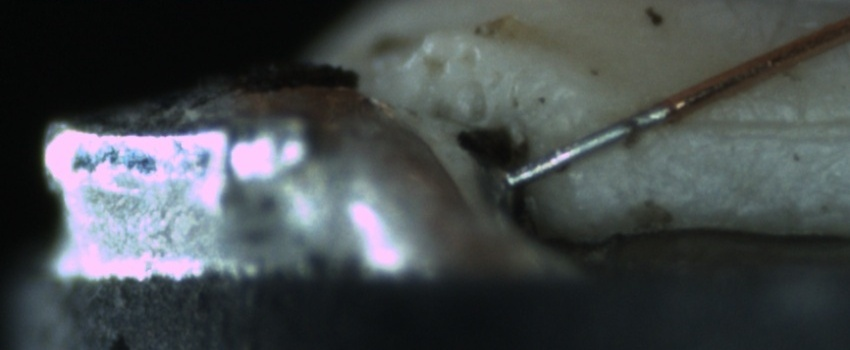DL: (670, 92, 849, 160)
TS: (498, 101, 670, 189)
